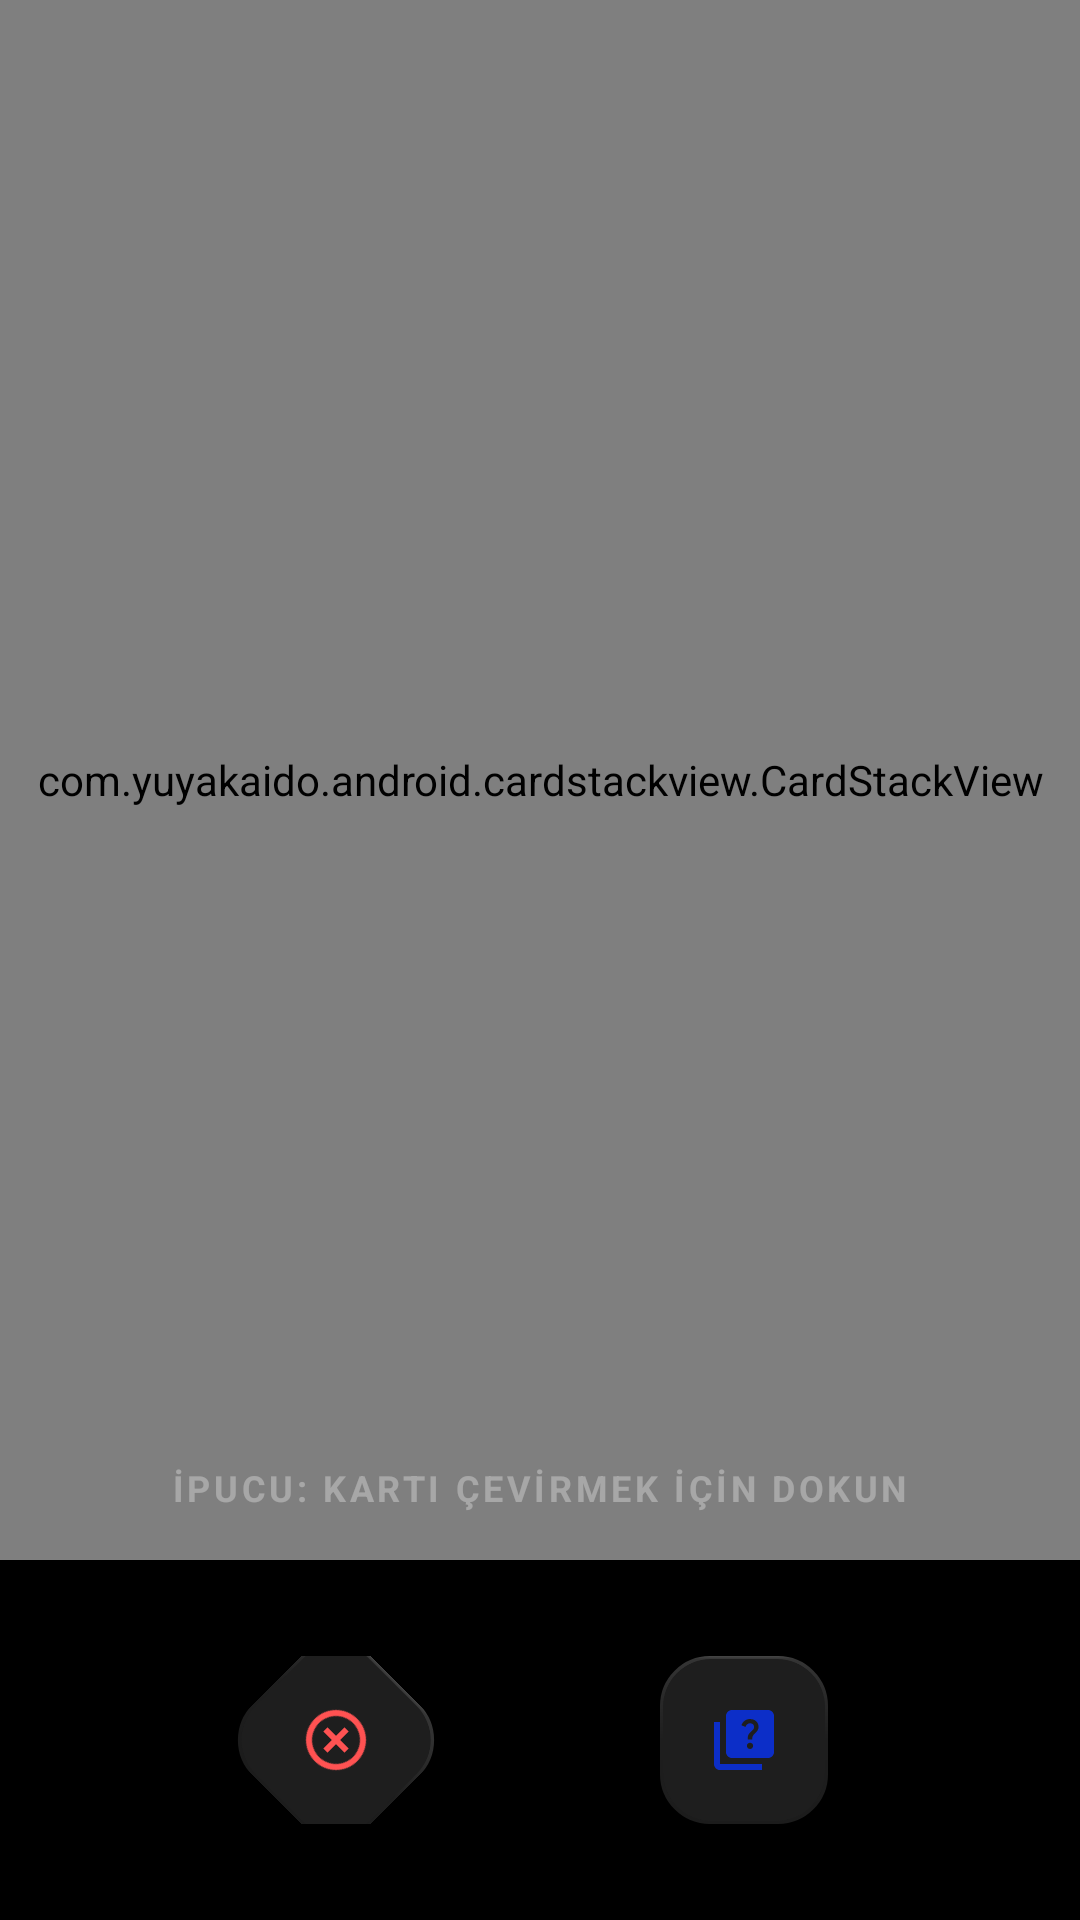

Screen size 1080x1920. Icon name, then its box in pixels as rect(x1, y1, x2, y2):
quiz: rect(660, 1656, 828, 1824)
